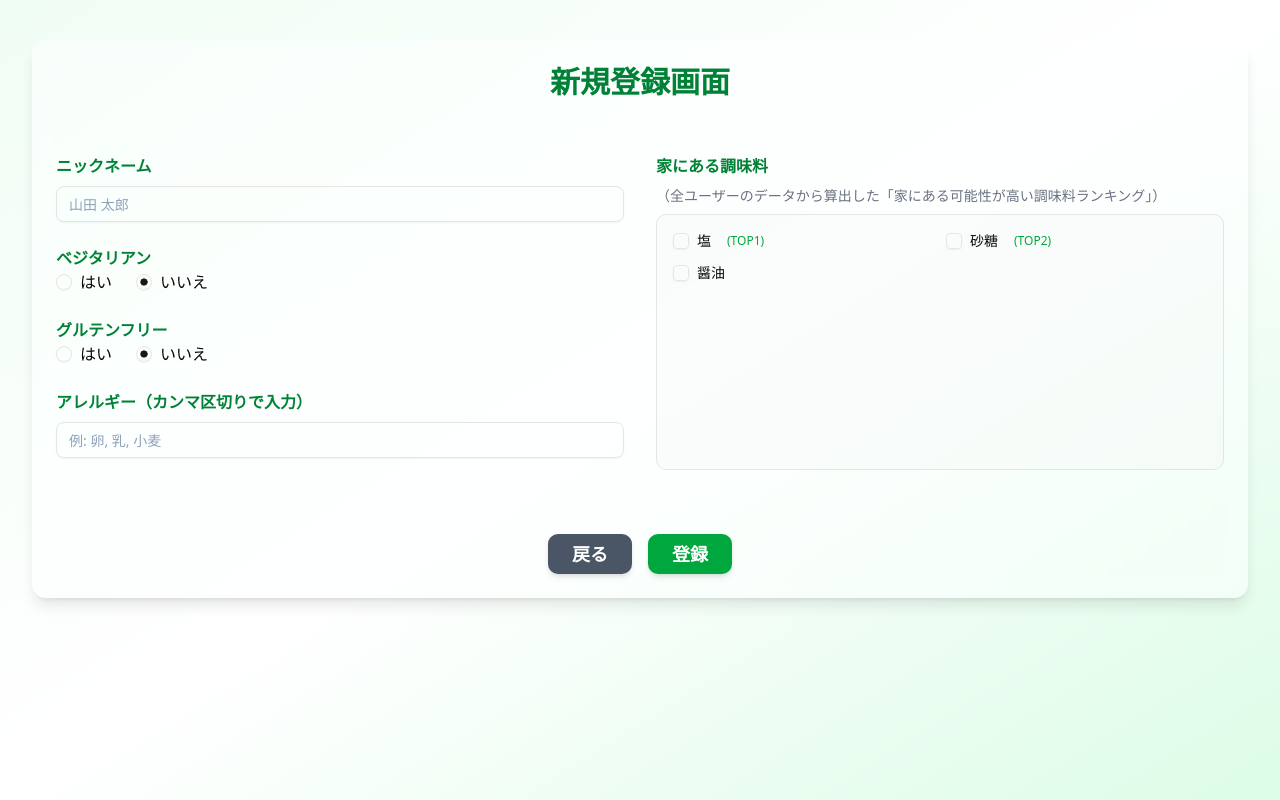
Test: 新規登録画面 › ヴィーガンのラジオボタンの「はい」を選択できる
 「はい」を選択
Click the radio button with test id "is_veganYes" at (64, 282), box [56, 274, 72, 290]
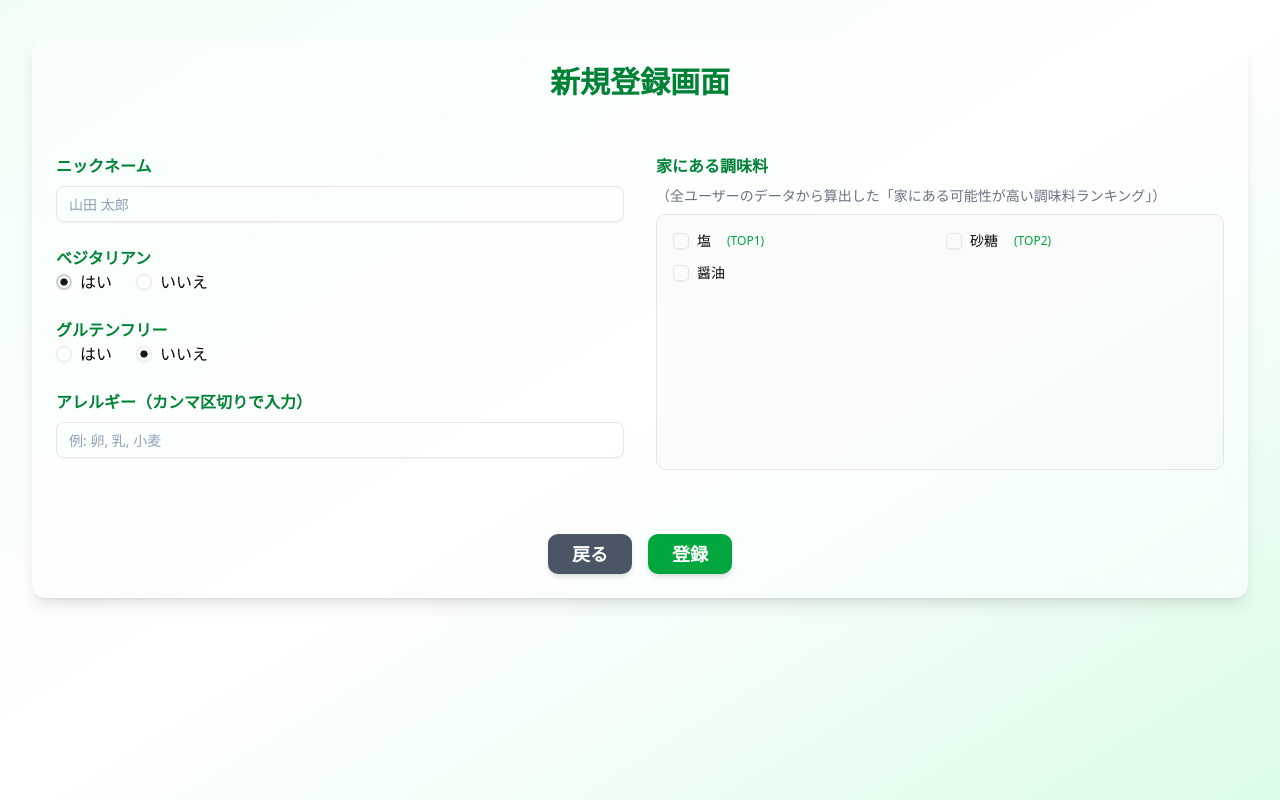
Check: the radio button with test id "is_veganYes" is checked, box [56, 274, 72, 290]
Check: the radio button with test id "is_veganNo" is not checked, box [136, 274, 152, 290]
